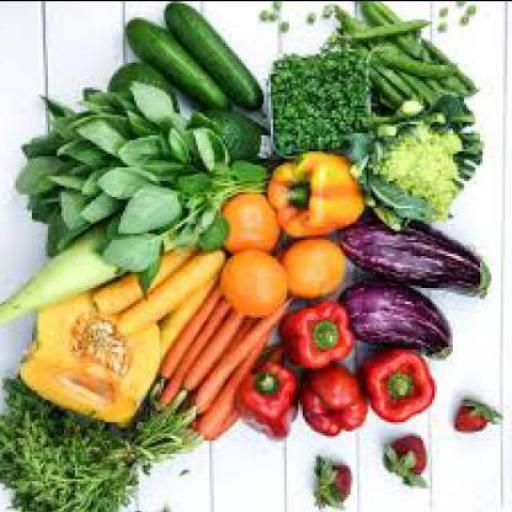biodegradable: (16, 84, 273, 300), (2, 384, 194, 511), (21, 295, 161, 426), (2, 223, 127, 327), (344, 216, 494, 298), (166, 2, 271, 116), (191, 302, 296, 414), (364, 2, 480, 94), (123, 20, 234, 114), (367, 2, 469, 100), (371, 127, 462, 226), (278, 54, 368, 150), (123, 256, 231, 336), (268, 155, 370, 239), (346, 280, 453, 360), (198, 332, 271, 443), (161, 301, 233, 409), (95, 240, 194, 310), (364, 348, 442, 426), (239, 358, 305, 441), (166, 287, 223, 378), (307, 362, 374, 439), (223, 250, 294, 319), (287, 305, 359, 371), (189, 305, 245, 389), (439, 96, 485, 192), (220, 193, 290, 255), (284, 239, 354, 300), (164, 275, 220, 350), (201, 114, 273, 162), (121, 184, 187, 234), (374, 46, 462, 82), (102, 234, 161, 276), (78, 116, 136, 158), (315, 456, 357, 510), (387, 435, 430, 487), (378, 97, 429, 139), (100, 168, 166, 200), (128, 80, 176, 123), (189, 128, 232, 170), (351, 25, 437, 45), (460, 401, 510, 435), (61, 192, 100, 234), (374, 64, 416, 100), (193, 129, 230, 169), (398, 66, 438, 103), (123, 136, 175, 164), (419, 68, 462, 98), (202, 211, 232, 253), (84, 193, 119, 228), (373, 68, 405, 106), (368, 205, 407, 232), (52, 176, 94, 192), (234, 164, 271, 182), (426, 114, 450, 125), (323, 7, 334, 20), (441, 7, 451, 20), (263, 9, 271, 23), (462, 16, 473, 26), (470, 4, 480, 14), (309, 15, 319, 23), (284, 25, 294, 32), (274, 2, 284, 9), (273, 14, 280, 24), (441, 30, 451, 34), (462, 2, 466, 9)
